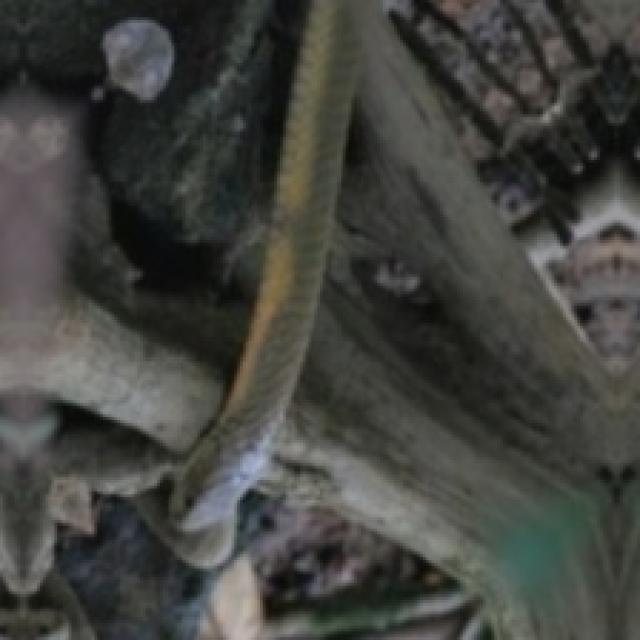king cobra: (0, 0, 357, 637)
